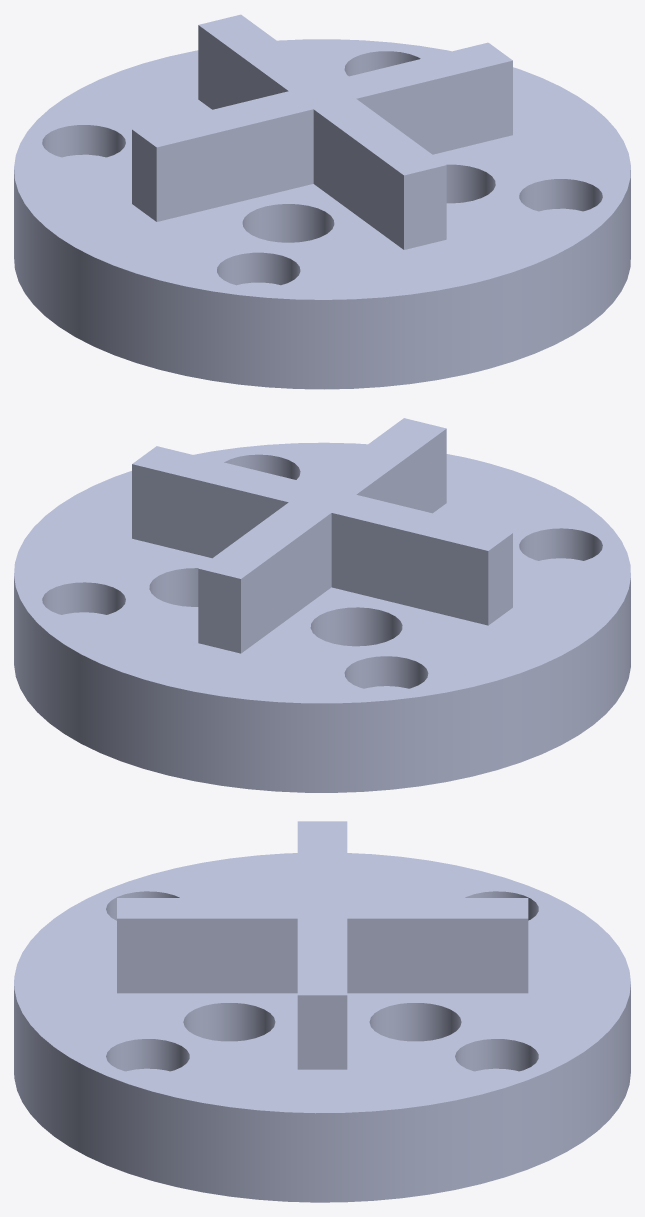
File: shaft-1.glb
The picture shows the model from 3 angles, top to bottom: view 1: azimuth 30°, elevation 25°; view 2: azimuth 150°, elevation 25°; view 3: azimuth 270°, elevation 25°; orthographic projection.
Visible parts, largest first — view 1: SHAFT 2; view 2: SHAFT 2; view 3: SHAFT 2.
Boxes of the visible parts, x1=… form: SHAFT 2: x1=14, y1=14, x2=630, y2=389; SHAFT 2: x1=14, y1=418, x2=630, y2=792; SHAFT 2: x1=14, y1=821, x2=630, y2=1202.
Size of the model in its own units: 0.0375 by 0.011 by 0.0375.
